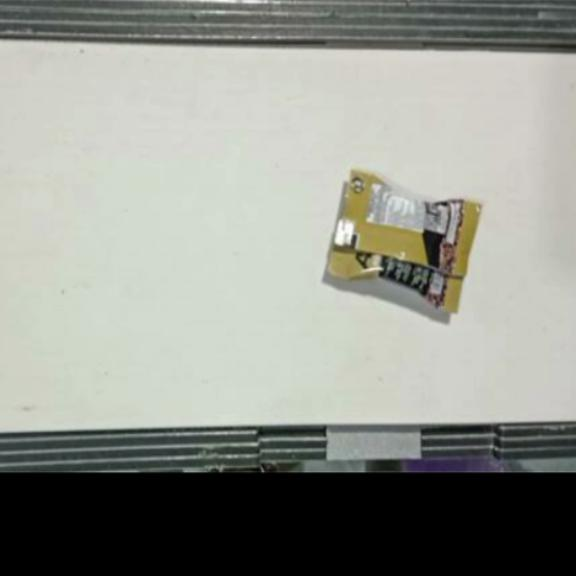Plastik: (326, 170, 482, 313)
